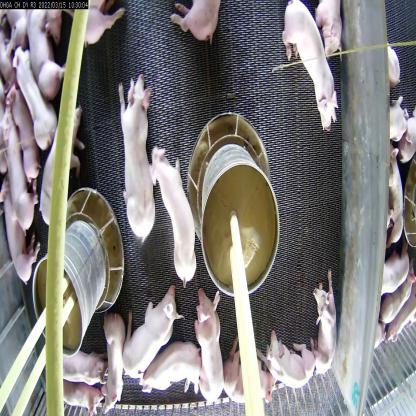Pig: (280, 3, 342, 136), (116, 70, 160, 238), (149, 142, 197, 283), (3, 33, 57, 146), (138, 333, 204, 416), (38, 101, 84, 218), (97, 298, 140, 415), (123, 290, 178, 379), (186, 286, 228, 401), (307, 261, 350, 370), (254, 324, 317, 394), (9, 76, 44, 189), (0, 183, 36, 291), (41, 330, 103, 392), (227, 327, 270, 409), (7, 105, 34, 222), (172, 0, 226, 49), (312, 0, 347, 55), (41, 386, 104, 416)
